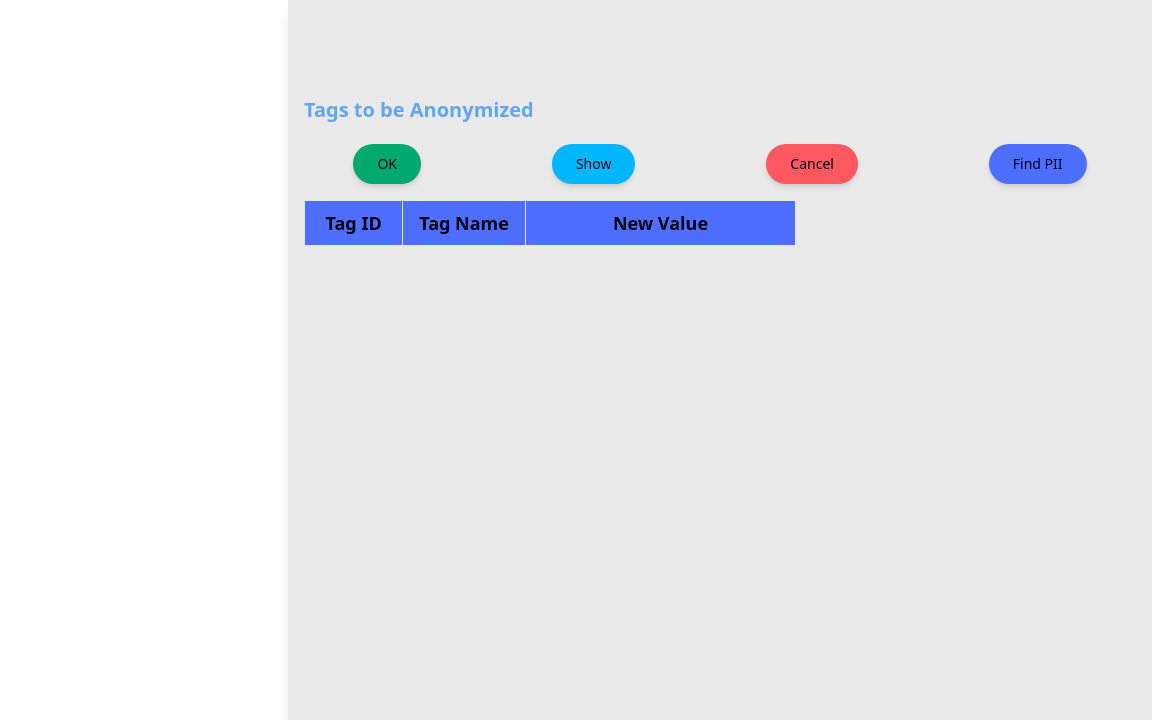
Test: SidePanel - findPII logic › should display detected PII after clicking 'Find PII'
Click the button "Find PII" at (1038, 164), box 989,144 -> 1087,184
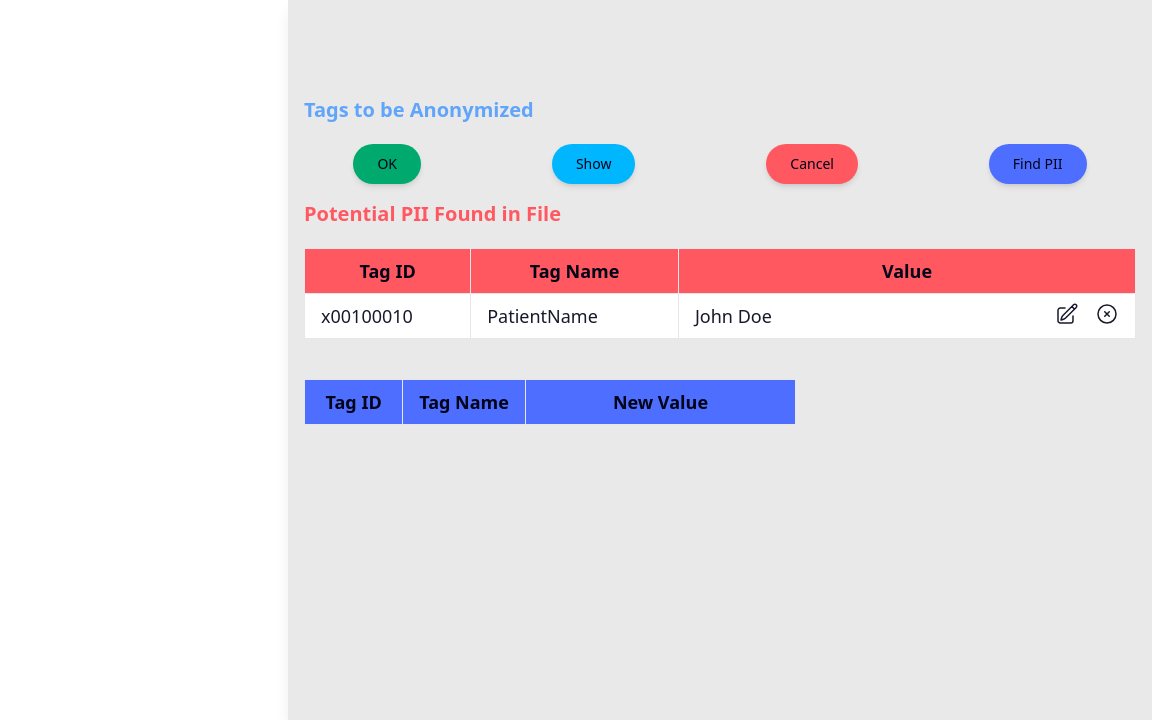
Check: the text "Potential PII Found in File" is shown, box 304,200 -> 561,227
Check: the text "x00100010" is shown, box 304,294 -> 471,338
Check: the text "John Doe" is shown, box 695,304 -> 772,328
